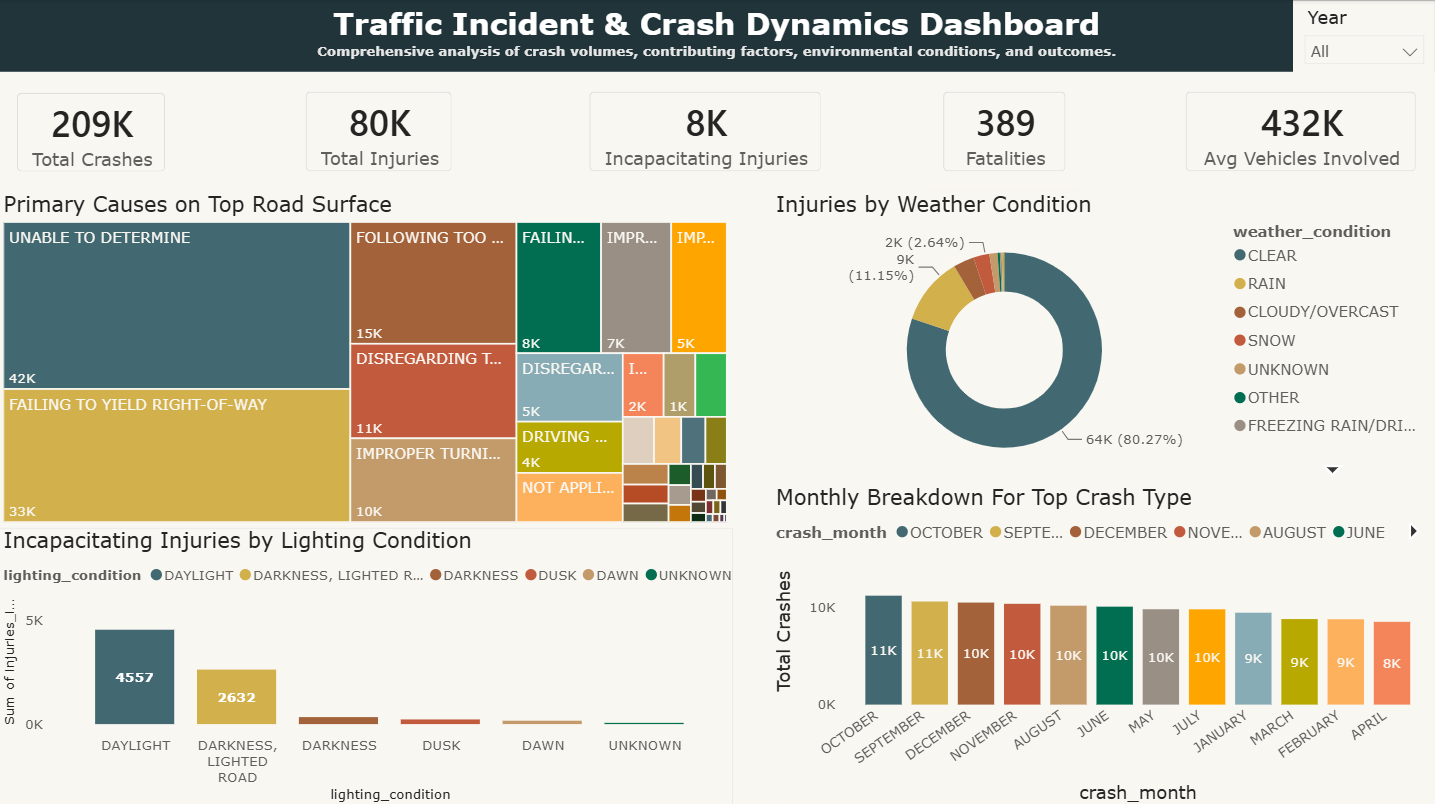

What the dashboard file says about the page in this screenshot:
{"tool":"powerbi","page":{"name":"Page 1","canvas":[1280,720],"ordinal":0},"visuals":[{"type":"donutChart","title":"Injuries by Weather Condition","fields":{"Category":["Traffic Accidents.weather_condition"],"Y":["Sum(Traffic Accidents.injuries_total)"]},"box":[688.5,171.2,591.9,260.5],"z":0},{"type":"columnChart","title":"Incapacitating Injuries by Lighting Condition","fields":{"Category":["Traffic Accidents.lighting_condition"],"Y":["Sum(Traffic Accidents.injuries_incapacitating)"],"Series":["Traffic Accidents.lighting_condition"]},"box":[0,470.8,654.2,249.5],"z":1000},{"type":"treemap","title":"Primary Causes  on Top Road Surface","fields":{"Group":["Traffic Accidents.prim_contributory_cause"],"Values":["Traffic Accidents.Total Crashes"]},"box":[0,171.2,654.2,299.6],"z":2000},{"type":"columnChart","title":"Monthly Breakdown For Top Crash Type","fields":{"Category":["Traffic Accidents.crash_month"],"Y":["Traffic Accidents.Total Crashes"],"Series":["Traffic Accidents.crash_month"]},"box":[688.5,431.7,591.9,288.6],"z":3000},{"type":"cardVisual","fields":{"Data":["Sum(Traffic Accidents.injuries_total)"]},"box":[257.1,65.7,164.8,105.8],"z":5000},{"type":"cardVisual","fields":{"Data":["Traffic Accidents.Total Crashes"]},"box":[0,66.8,167,104.6],"z":6000},{"type":"cardVisual","fields":{"Data":["Sum(Traffic Accidents.injuries_fatal)"]},"box":[824.3,66,143.1,105.2],"z":7000},{"type":"cardVisual","fields":{"Data":["Sum(Traffic Accidents.injuries_incapacitating)"]},"box":[509.8,65.7,240.4,105.8],"z":8000},{"type":"cardVisual","fields":{"Data":["Sum(Traffic Accidents.num_units)"]},"box":[1040.8,65.7,239.3,105.8],"z":9000},{"type":"textbox","box":[0,0,1280,65.1],"z":10000},{"type":"slicer","fields":{"Values":["Traffic Accidents.crash_date.Variation.Date Hierarchy.Year"]},"box":[1153.4,1.2,126.7,65.1],"z":10500}]}

Visuals, with their boxes in screenshot pixels (x1, y1, x2, y2), scaled from the page's 1280x720 canvas onto the 1435x804 screenshot:
"Injuries by Weather Condition" donutChart: x1=772 y1=191 x2=1434 y2=482
"Incapacitating Injuries by Lighting Condition" columnChart: x1=0 y1=526 x2=733 y2=803
"Primary Causes  on Top Road Surface" treemap: x1=0 y1=191 x2=733 y2=526
"Monthly Breakdown For Top Crash Type" columnChart: x1=772 y1=482 x2=1434 y2=803
cardVisual - Sum(Traffic Accidents.injuries_total): x1=288 y1=73 x2=473 y2=192
cardVisual - Traffic Accidents.Total Crashes: x1=0 y1=75 x2=187 y2=191
cardVisual - Sum(Traffic Accidents.injuries_fatal): x1=924 y1=74 x2=1085 y2=191
cardVisual - Sum(Traffic Accidents.injuries_incapacitating): x1=572 y1=73 x2=841 y2=192
cardVisual - Sum(Traffic Accidents.num_units): x1=1167 y1=73 x2=1434 y2=192
textbox: x1=0 y1=0 x2=1434 y2=73
slicer - Traffic Accidents.crash_date.Variation.Date Hierarchy.Year: x1=1293 y1=1 x2=1434 y2=74
